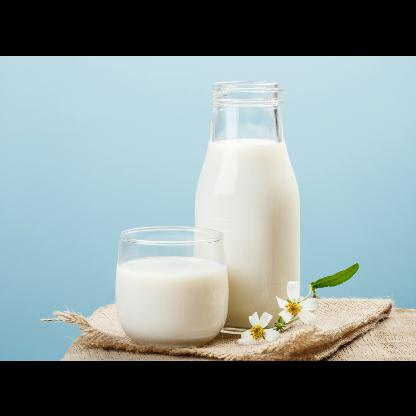milk: (194, 136, 300, 328), (114, 255, 228, 345)
